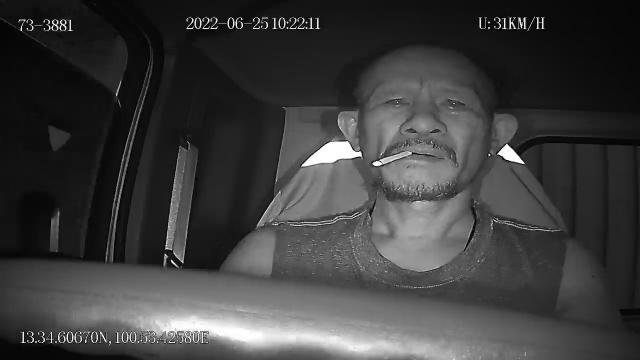SafeDriving: (377, 88, 418, 115), (436, 89, 472, 117)
Smoking: (372, 151, 412, 167)
